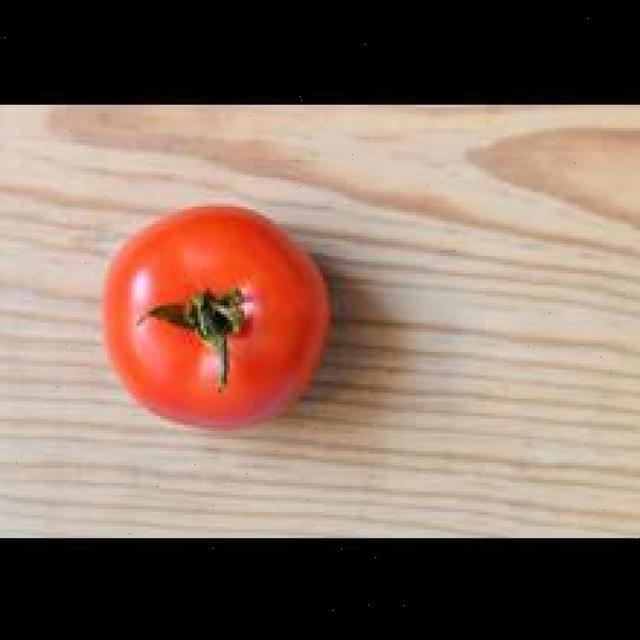Healthy Fruit: (64, 127, 224, 294)
